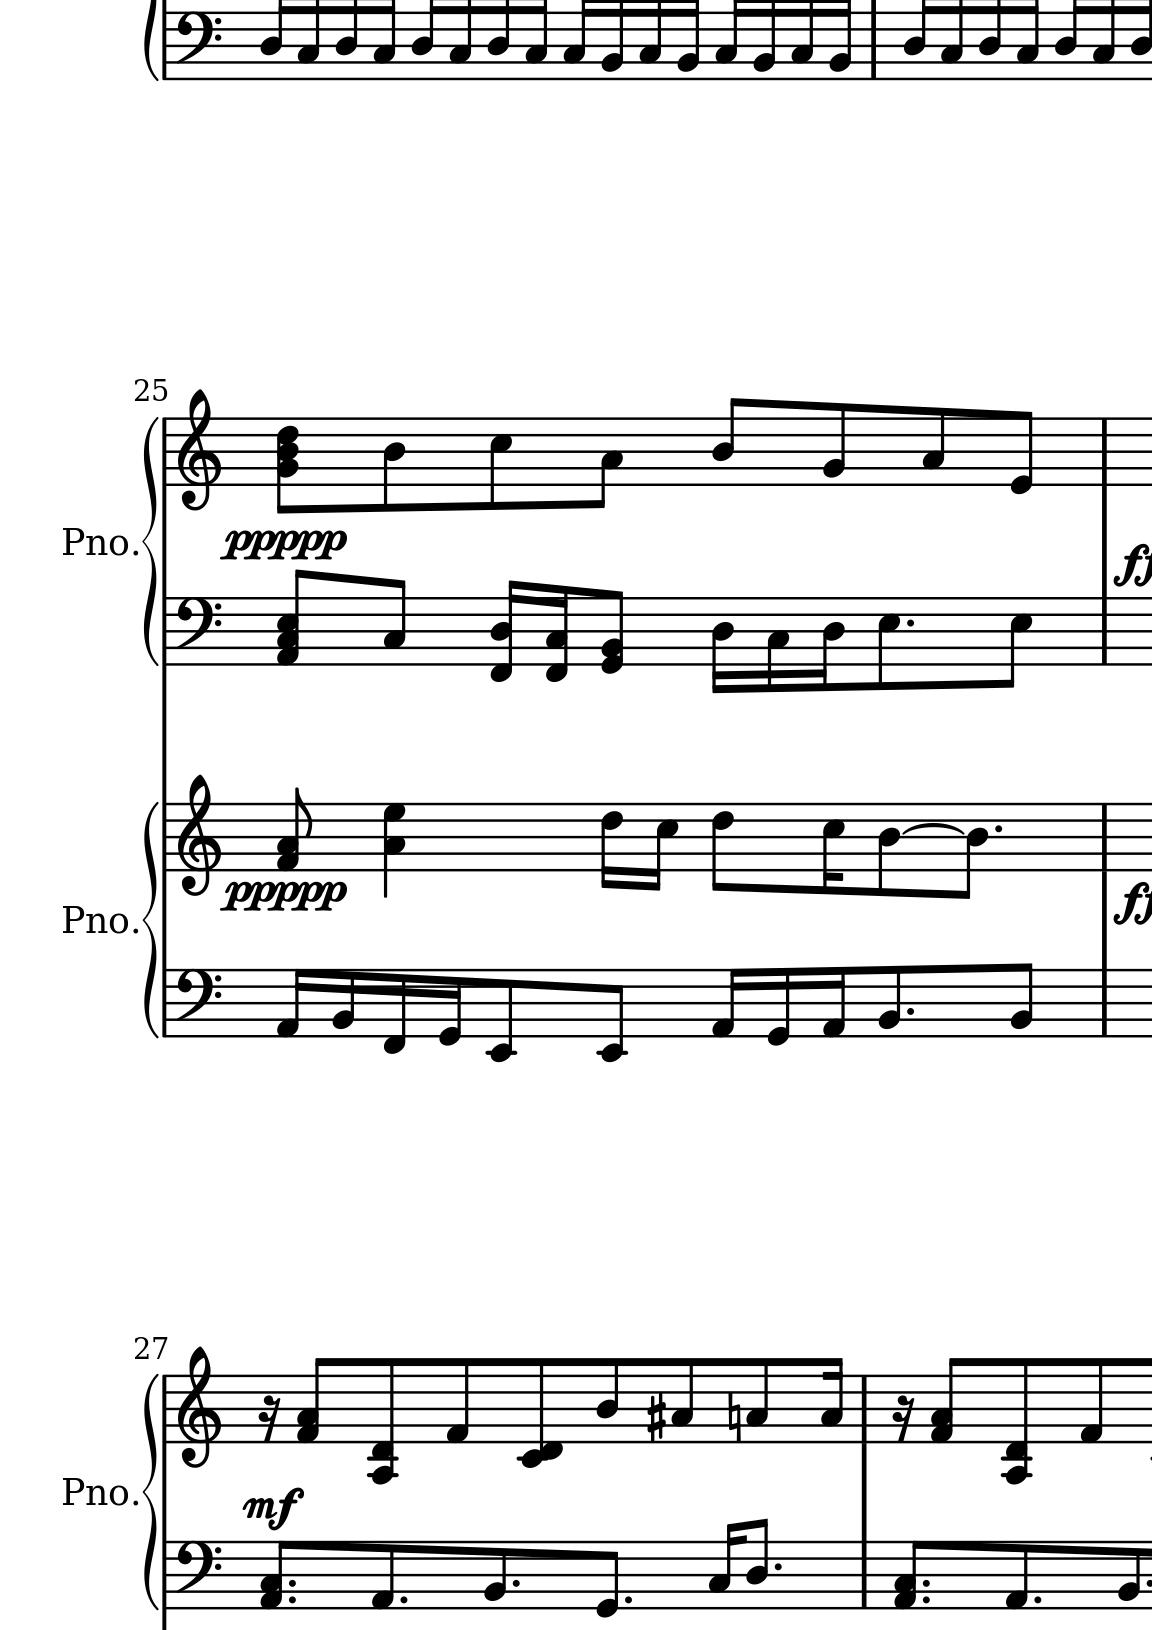16_-1: (382, 967, 409, 1056)
16_-1_3: (542, 584, 571, 683)
16_-1_4: (489, 579, 524, 685)
16_0: (436, 967, 465, 1047), (766, 967, 793, 1047)
16_1: (273, 967, 310, 1042), (709, 966, 746, 1041), (820, 966, 848, 1041)
16_2: (330, 967, 358, 1041)
16_3: (707, 1520, 746, 1609), (764, 594, 790, 694), (819, 1356, 844, 1446)
16_4: (814, 596, 845, 694), (709, 594, 736, 697)
16_5: (645, 801, 679, 894), (819, 801, 847, 897)
16_6: (598, 803, 623, 891)
2: (131, 1333, 151, 1362), (131, 376, 150, 404)
5: (151, 375, 170, 404)
7: (150, 1332, 170, 1360)
8_-2: (485, 970, 517, 1063), (596, 968, 628, 1062)
8_-2_-1: (517, 1356, 565, 1468)
8_-4_-1: (999, 1356, 1035, 1485), (365, 1357, 401, 1485)
8_0: (1007, 409, 1036, 497), (593, 1539, 621, 1620)
8_0_2: (600, 588, 627, 675)
8_1: (443, 1356, 471, 1446), (1077, 1357, 1105, 1446), (1002, 1540, 1030, 1613), (370, 1540, 396, 1611)
8_1_3: (295, 1357, 333, 1444), (931, 1356, 967, 1443), (258, 1539, 295, 1611), (891, 1539, 929, 1611)
8_2: (822, 401, 848, 489), (1009, 961, 1035, 1041), (876, 965, 901, 1039), (482, 1540, 507, 1613), (1117, 1540, 1141, 1613)
8_3: (588, 415, 625, 510), (670, 1357, 696, 1446), (920, 406, 948, 489), (382, 578, 406, 668), (746, 1357, 770, 1446)
8_4: (953, 800, 989, 903), (709, 395, 746, 489), (593, 1356, 621, 1446), (876, 801, 901, 900), (382, 416, 406, 513), (747, 1518, 770, 1611)
8_5: (999, 596, 1034, 690), (875, 596, 901, 695), (487, 416, 514, 513)
8_6: (709, 801, 736, 895)
8_th: (276, 565, 310, 670), (272, 412, 298, 518)
Brace: (138, 1366, 160, 1613), (141, 416, 160, 669), (143, 803, 160, 1042)
Fclef: (175, 594, 224, 669), (173, 7, 224, 80), (175, 1539, 224, 1613), (175, 967, 223, 1041)
Gclef: (175, 771, 223, 897), (176, 388, 223, 512), (175, 1345, 222, 1469)
Natural: (726, 1391, 743, 1446)
Pno: (61, 523, 130, 565), (61, 901, 130, 940), (62, 1473, 128, 1512)
Rests16: (256, 1393, 282, 1446), (890, 1394, 916, 1446)
Sharp: (645, 1391, 668, 1446)
Single_barline: (862, 2, 884, 80), (852, 1376, 875, 1443), (1093, 417, 1116, 486), (1093, 804, 1116, 872), (1093, 970, 1116, 1038), (1093, 598, 1116, 665), (855, 1542, 874, 1609), (157, 417, 175, 487), (158, 803, 175, 874), (158, 1375, 175, 1444), (158, 1542, 175, 1610), (160, 9, 175, 80), (160, 970, 175, 1038), (160, 598, 175, 665)
dot: (901, 616, 918, 631), (770, 1559, 785, 1575), (509, 1576, 522, 1593), (1030, 1593, 1044, 1608), (991, 822, 1005, 836), (904, 1004, 918, 1018), (919, 1576, 933, 1590), (396, 1593, 410, 1606), (919, 1593, 933, 1606), (622, 1593, 635, 1608), (286, 1579, 298, 1589), (286, 1594, 298, 1604)
mf: (244, 1485, 305, 1532)
ppppp: (216, 876, 349, 916), (222, 527, 349, 563)
